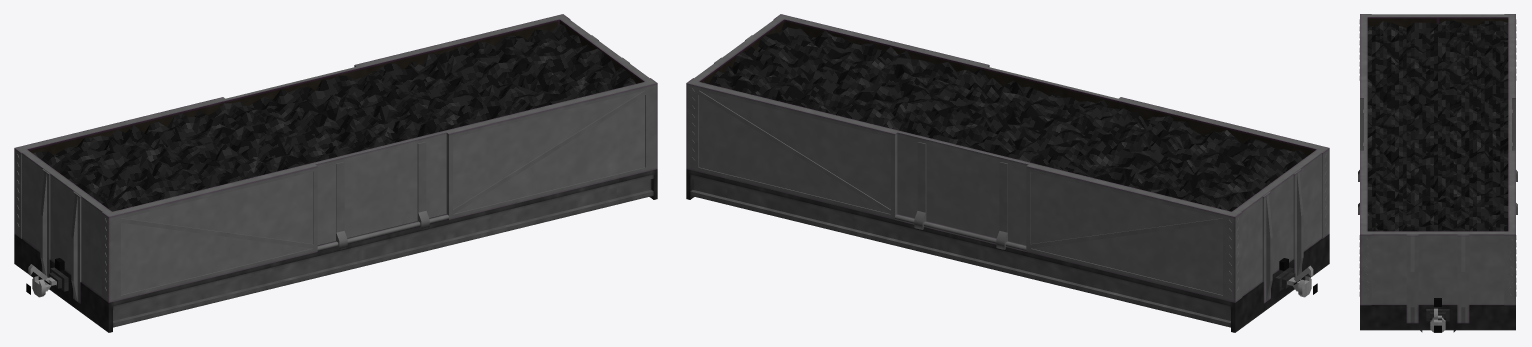
The model's file is kitsune_mk2_gondola.obj.
The picture shows the model from 3 angles, left to right: view 1: azimuth 30°, elevation 25°; view 2: azimuth 150°, elevation 25°; view 3: azimuth 270°, elevation 25°; orthographic projection. The views are drawn at different scales.
Visible parts, largest first — view 1: CARGO_FILL_1, FRAME.Body.001, FRAME.Body.004, DOOR_4, FRAME.Body.002, FRAME_3, FRAME_1, FRAME_2, FRAME_end1, FRAME.Body.003, DOOR_3, FRAME_end2 (+2 smaller); view 2: CARGO_FILL_1, FRAME.Body.002, FRAME.Body.003, DOOR_3, FRAME.Body.001, FRAME_3, FRAME_1, FRAME_2, FRAME_end1, FRAME.Body.004, DOOR_4, FRAME_end2 (+2 smaller); view 3: CARGO_FILL_1, FRAME.Body.003, FRAME.Body.004, FRAME_end2, FRAME.Body.001, FRAME.Body.002, COUPLER_ENGAGED_REAR_2_TOGGLE_LABEL_Uncouple, DOOR_3, DOOR_4.
Part boxes in pixels (x1,y1,x2,y2): CARGO_FILL_1: (33, 24, 635, 211); FRAME.Body.001: (62, 163, 317, 303); FRAME.Body.004: (444, 49, 657, 219); DOOR_4: (313, 131, 446, 249); FRAME.Body.002: (14, 97, 227, 277); FRAME_3: (458, 178, 618, 242); FRAME_1: (145, 255, 305, 318); FRAME_2: (303, 217, 460, 280); FRAME_end1: (14, 234, 147, 332); FRAME.Body.003: (354, 14, 609, 77); DOOR_3: (226, 66, 358, 105); FRAME_end2: (616, 169, 657, 203); CARGO_FILL_1: (702, 22, 1306, 211); FRAME.Body.002: (1026, 163, 1281, 303); FRAME.Body.003: (686, 49, 899, 219); DOOR_3: (897, 131, 1030, 249); FRAME.Body.001: (1116, 97, 1329, 276); FRAME_3: (725, 178, 885, 242); FRAME_1: (1038, 255, 1198, 318); FRAME_2: (883, 217, 1040, 280); FRAME_end1: (1196, 234, 1329, 332); FRAME.Body.004: (734, 14, 989, 73); DOOR_4: (985, 66, 1117, 108); FRAME_end2: (686, 169, 727, 203); CARGO_FILL_1: (1367, 20, 1508, 231); FRAME.Body.003: (1438, 150, 1516, 323); FRAME.Body.004: (1359, 150, 1437, 323); FRAME_end2: (1360, 305, 1515, 330); FRAME.Body.001: (1359, 14, 1437, 150); FRAME.Body.002: (1438, 14, 1516, 150); COUPLER_ENGAGED_REAR_2_TOGGLE_LABEL_Uncouple: (1426, 309, 1449, 332); DOOR_3: (1508, 98, 1517, 214); DOOR_4: (1358, 98, 1367, 214).
Bounding box in the file's own units: 9.38 × 1.94 × 2.56.
5 materials, 5 textured.
